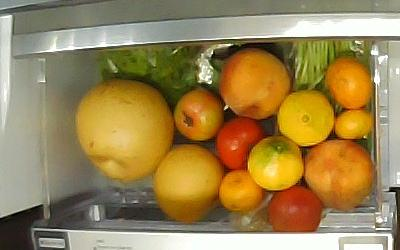peach: (218, 48, 291, 120), (302, 142, 373, 213)
pear: (74, 79, 174, 182), (152, 146, 226, 222)
tangerine: (247, 134, 304, 191), (276, 89, 333, 145), (326, 56, 372, 109), (219, 170, 264, 210), (333, 108, 373, 140)
tomato: (173, 87, 224, 140), (267, 184, 322, 232), (215, 117, 262, 171)
